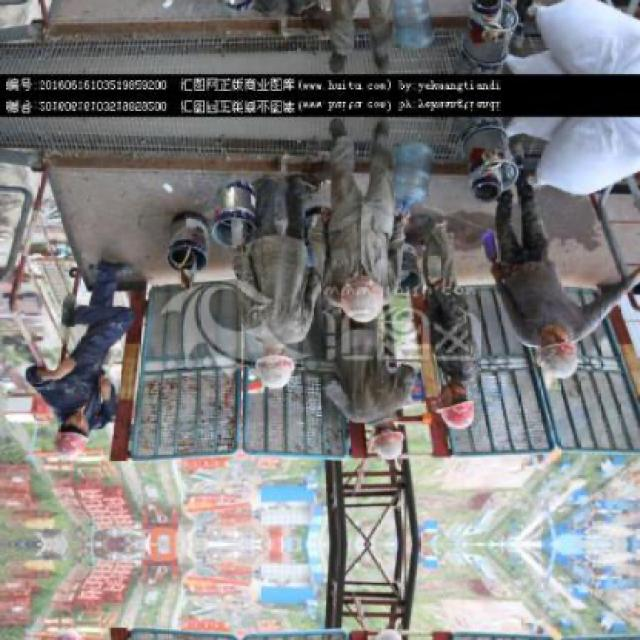con casco: (28, 378, 120, 470), (239, 321, 315, 416), (330, 230, 400, 332), (429, 356, 478, 437)
